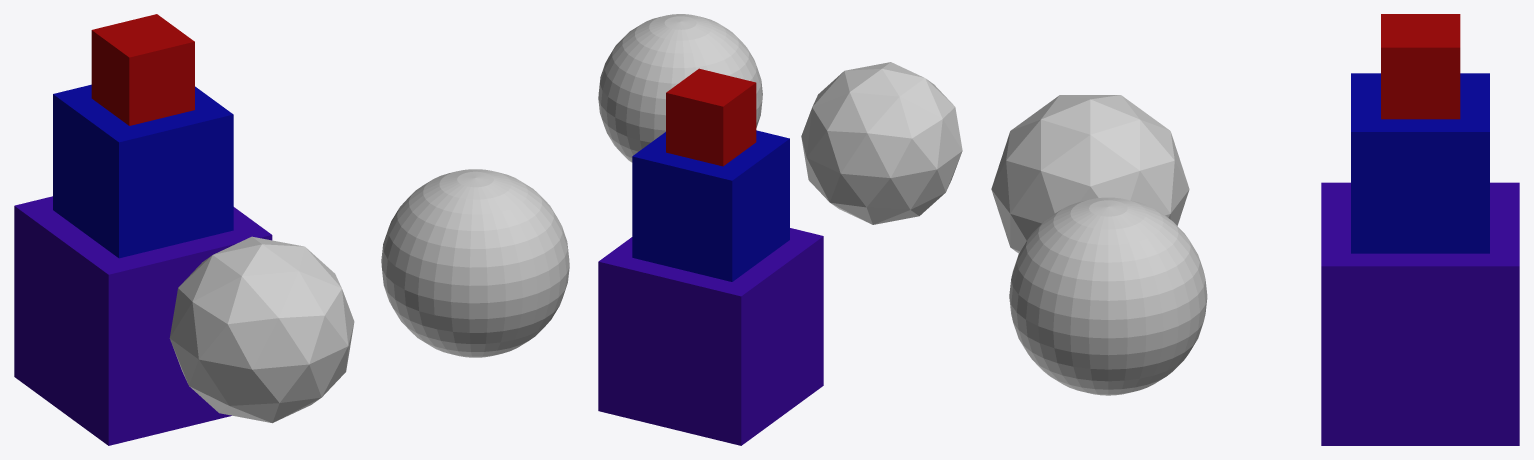
The model's file is testspheres.obj.
The picture shows the model from 3 angles, left to right: view 1: azimuth 30°, elevation 25°; view 2: azimuth 150°, elevation 25°; view 3: azimuth 270°, elevation 25°; orthographic projection. The views are drawn at different scales.
Visible parts, largest first — view 1: Cube_Cube.005, Sphere, Icosphere, Cube.001_Cube.004, Cube.002_Cube.003; view 2: Cube_Cube.005, Icosphere, Cube.001_Cube.004, Sphere, Cube.002_Cube.003; view 3: Cube_Cube.005, Sphere, Cube.001_Cube.004, Icosphere, Cube.002_Cube.003.
Part boxes in pixels (bbox=[...]): Cube_Cube.005: bbox=[14, 196, 272, 445]; Sphere: bbox=[381, 169, 569, 357]; Icosphere: bbox=[169, 236, 354, 423]; Cube.001_Cube.004: bbox=[53, 84, 233, 258]; Cube.002_Cube.003: bbox=[91, 14, 194, 125]; Cube_Cube.005: bbox=[598, 228, 823, 445]; Icosphere: bbox=[801, 62, 962, 224]; Cube.001_Cube.004: bbox=[632, 130, 789, 281]; Sphere: bbox=[598, 14, 762, 162]; Cube.002_Cube.003: bbox=[666, 68, 756, 166]; Cube_Cube.005: bbox=[1321, 182, 1519, 445]; Sphere: bbox=[1009, 197, 1207, 395]; Cube.001_Cube.004: bbox=[1351, 73, 1489, 253]; Icosphere: bbox=[991, 95, 1189, 253]; Cube.002_Cube.003: bbox=[1381, 14, 1460, 119].
Size of the model in its own units: 4.67 by 4.16 by 5.33.
